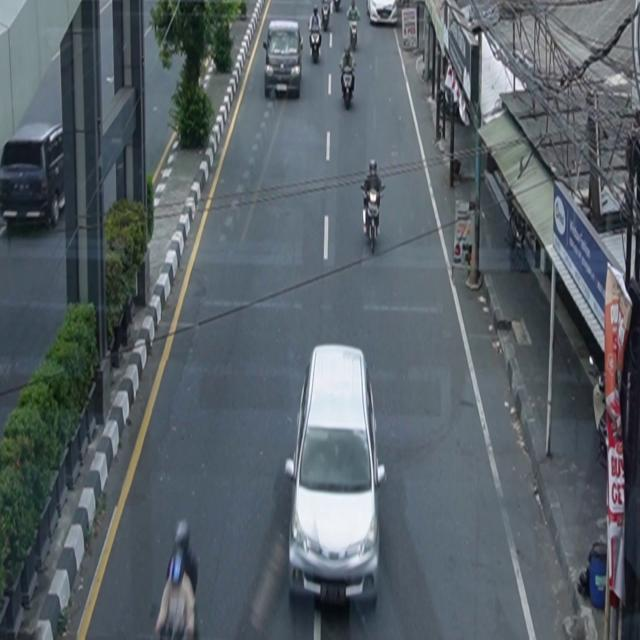car: (285, 344, 387, 610), (264, 20, 304, 100), (367, 1, 399, 26)
truck: (1, 121, 66, 231)
